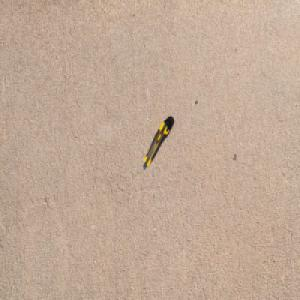Cutter: (142, 117, 172, 170)
